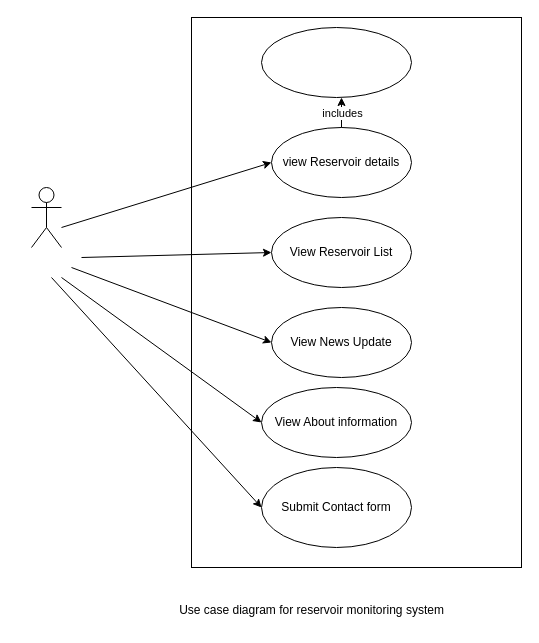
Image size: 539x643. Some labels were removed from this diagram. Here are the shapes that lost their labels. From the top down, the centre of each, then its label:
At [336,62]: "View Water level Graphs".
At [46,217]: "Public user".
